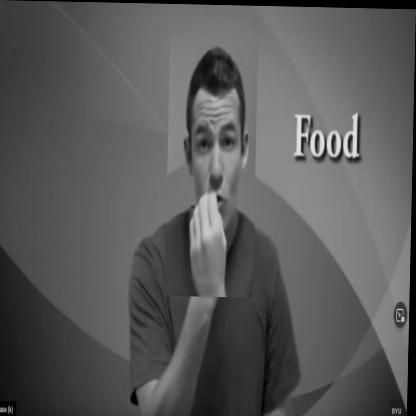Food: (166, 36, 258, 297)
